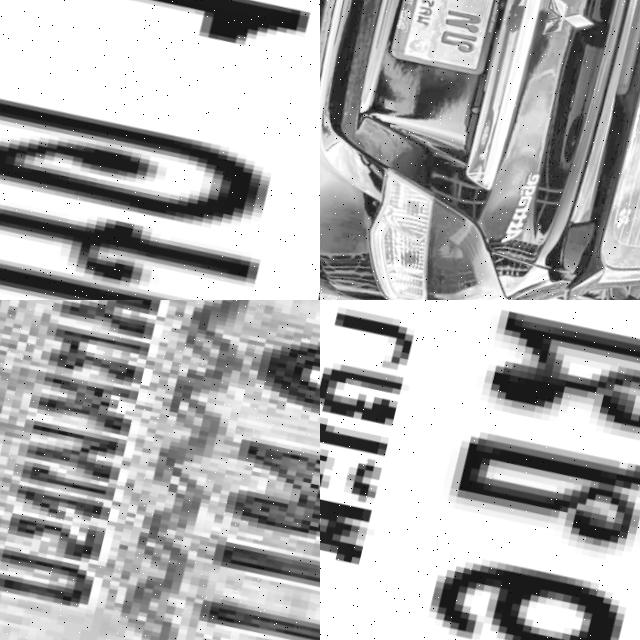license-plate: (0, 300, 320, 640), (320, 300, 640, 640), (0, 0, 320, 300), (388, 0, 520, 81)
